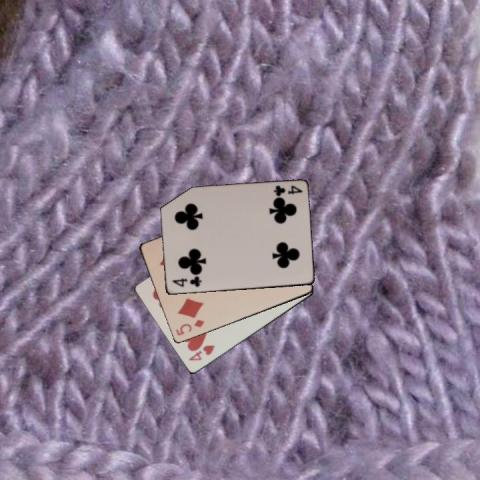4c: (169, 274, 203, 289), (271, 183, 303, 198)
4h: (185, 342, 216, 363)
5d: (173, 317, 206, 337)
